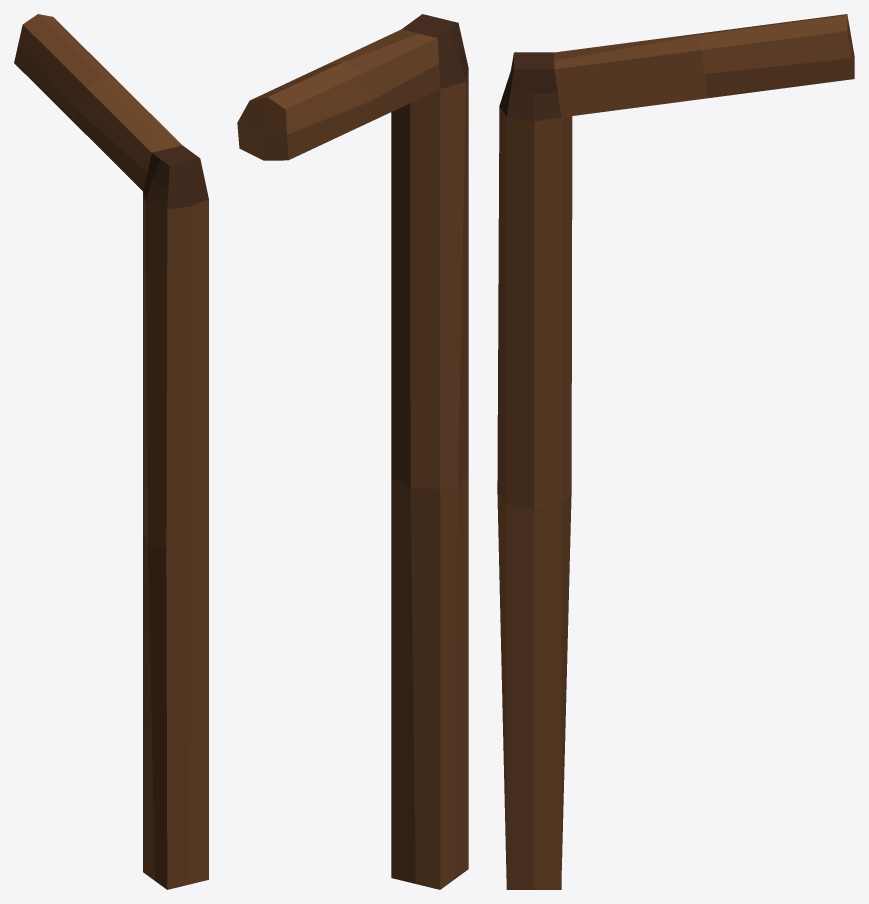
The model's file is Column.fbx.
The picture shows the model from 3 angles, left to right: view 1: azimuth 30°, elevation 25°; view 2: azimuth 150°, elevation 25°; view 3: azimuth 270°, elevation 25°; orthographic projection. The views are drawn at different scales.
Parts seen in each view (by area): view 1: Cube.026; view 2: Cube.026; view 3: Cube.026.
Part boxes in pixels (x1,y1,x2,y2): Cube.026: [14, 14, 208, 889]; Cube.026: [237, 14, 468, 889]; Cube.026: [497, 14, 854, 889].
Bounding box in the file's own units: 0.505 × 6.11 × 2.29.
